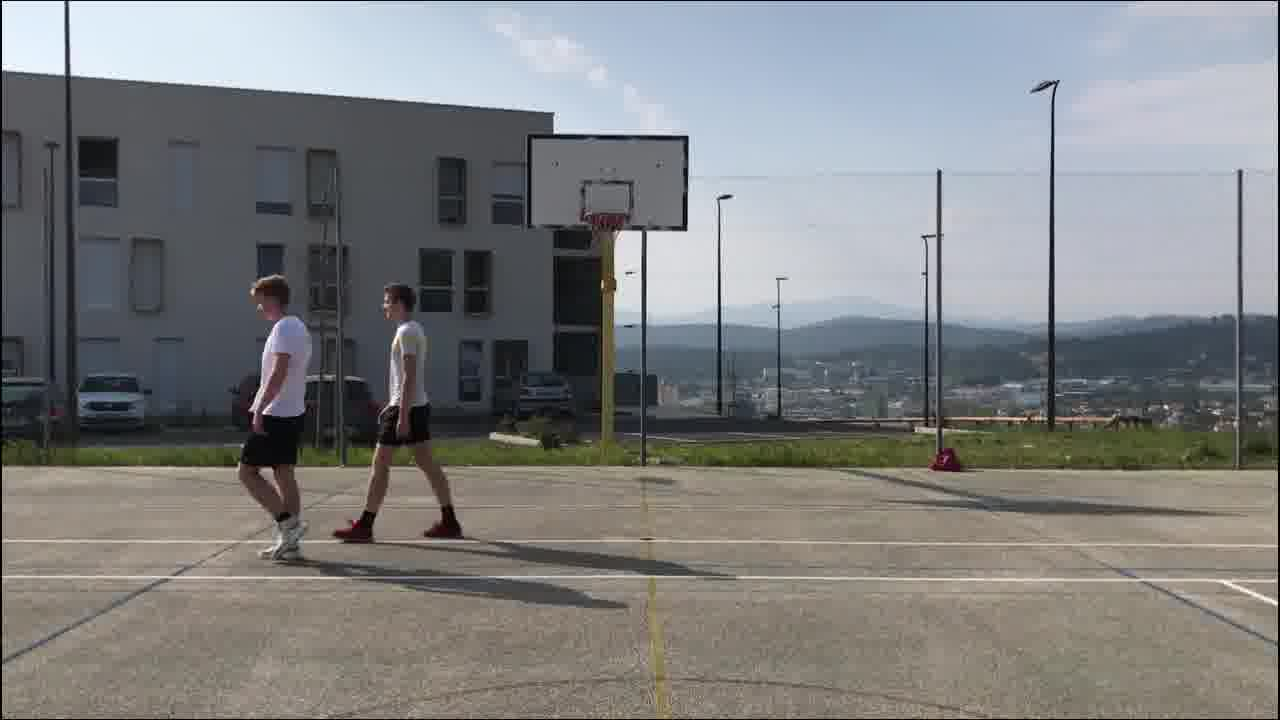jugador: (321, 276, 473, 548)
